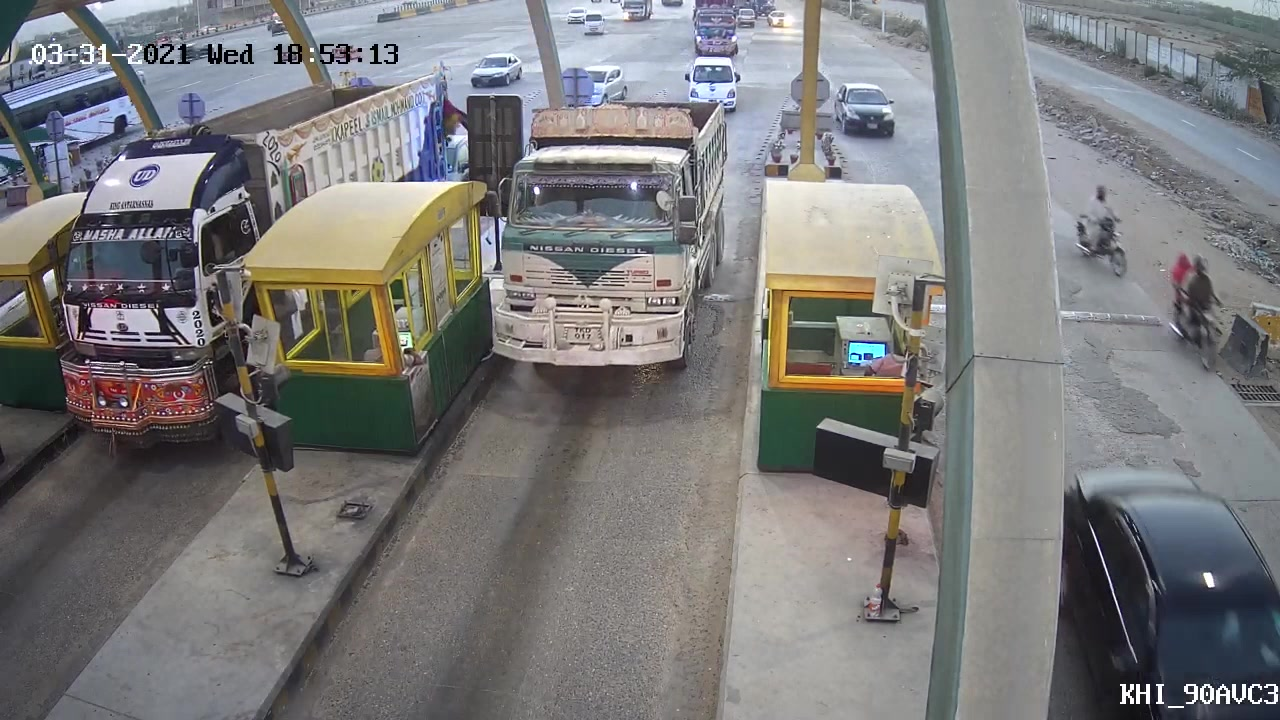F5: (481, 95, 738, 394)
